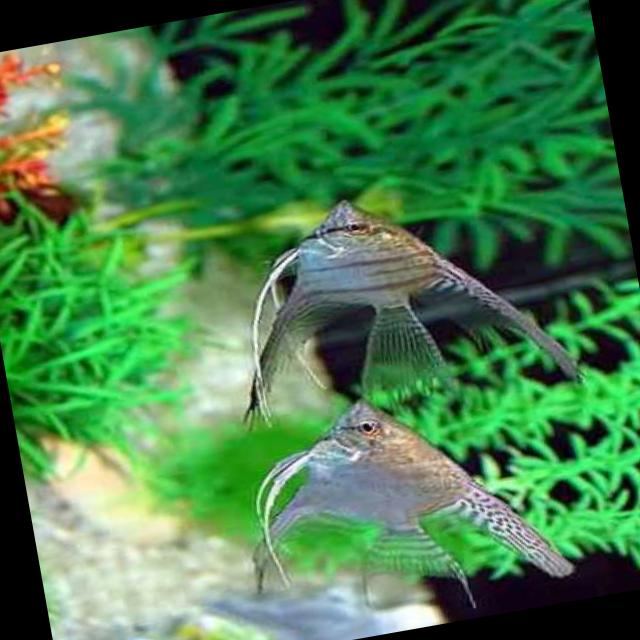AngelFish: (195, 164, 582, 420), (235, 371, 572, 638)
